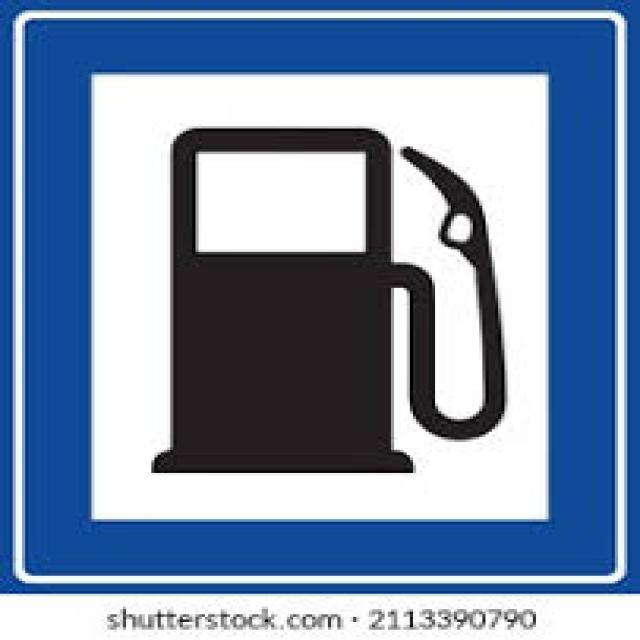petrol pump ahead: (43, 35, 599, 554)
